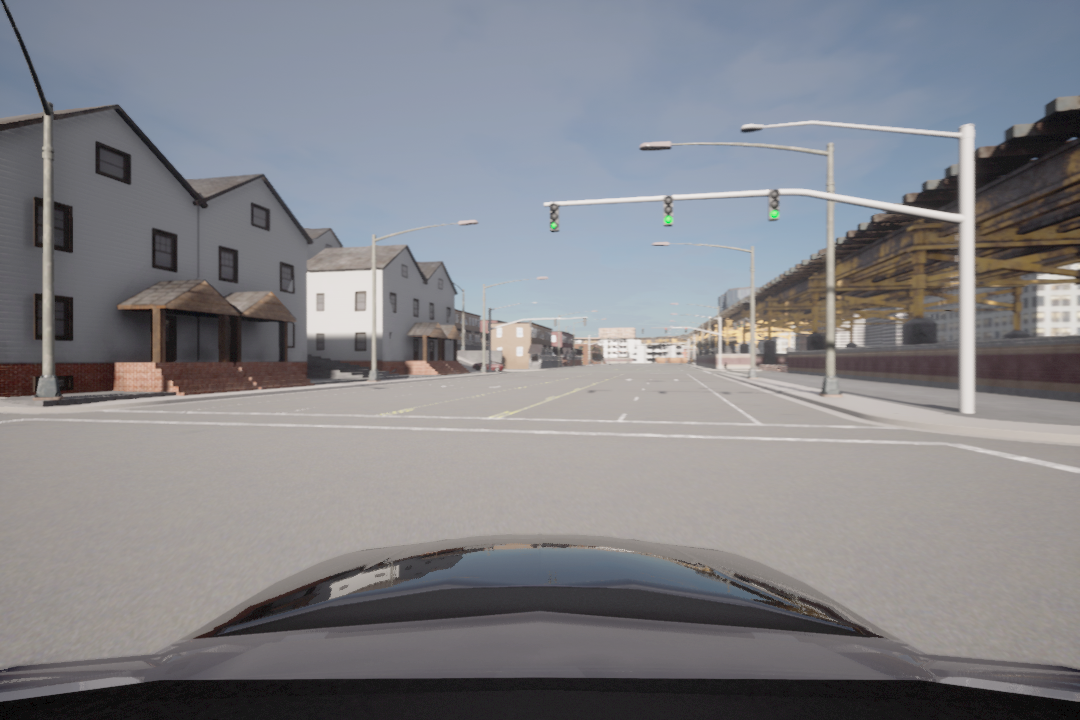TrafficLight: (764, 184, 781, 224), (546, 202, 564, 235), (661, 196, 676, 227)
